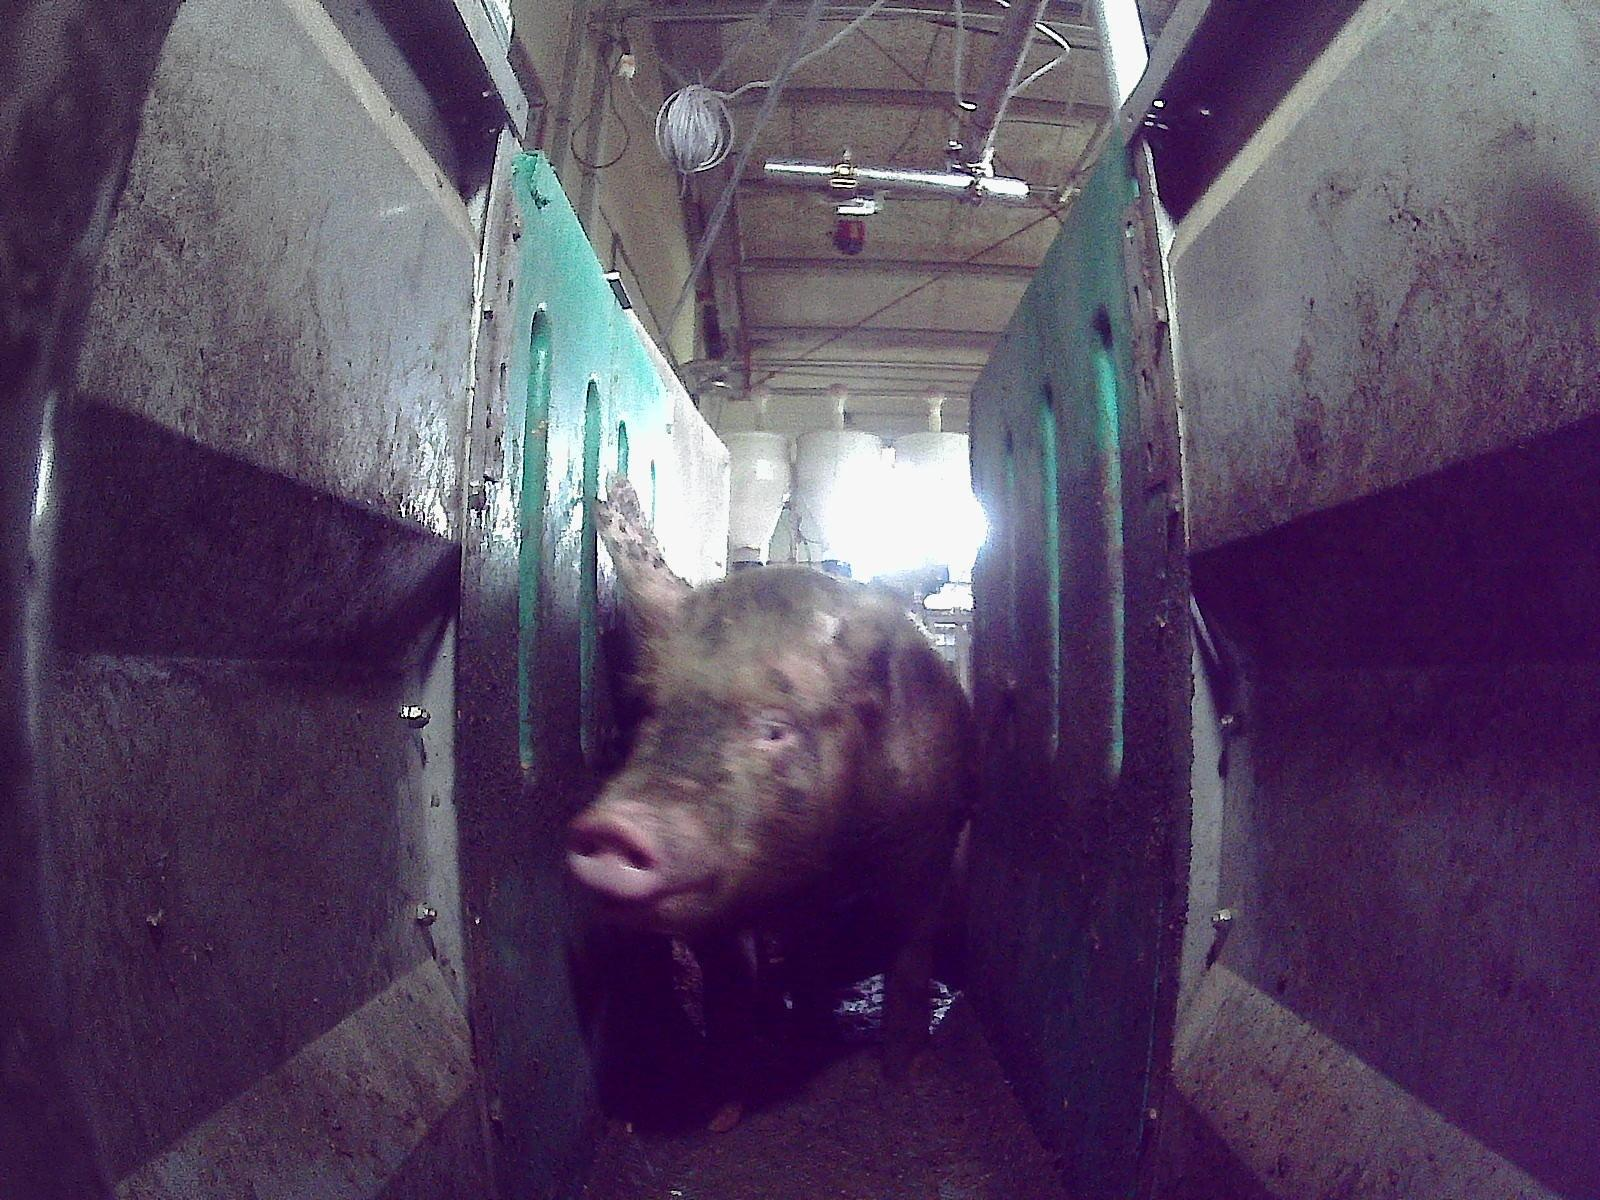Face: (564, 564, 883, 929)
